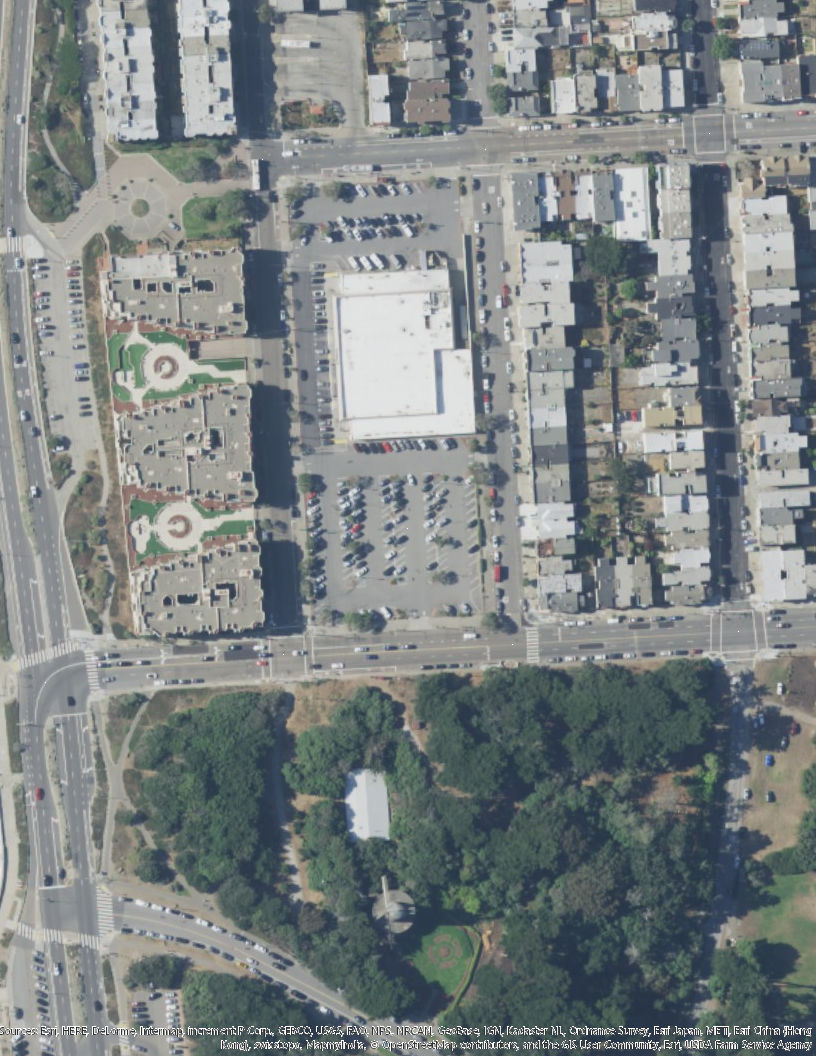zebracross: (19, 639, 80, 672), (96, 886, 113, 936), (84, 649, 100, 690), (524, 626, 541, 663), (44, 927, 62, 946), (80, 931, 97, 950), (17, 923, 34, 940), (7, 237, 23, 252)
